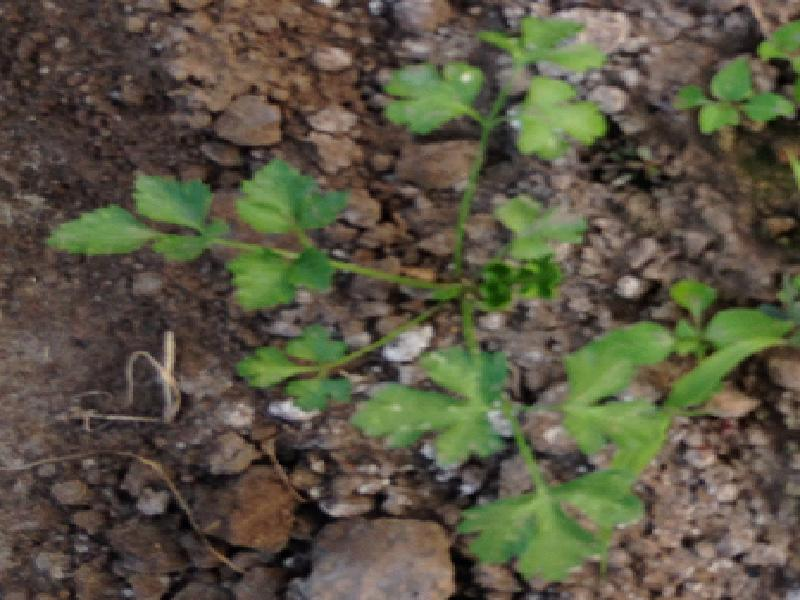radish: (0, 117, 800, 575)
